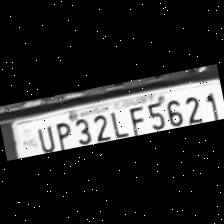1: (200, 88, 222, 120)
2: (180, 91, 204, 124), (89, 109, 112, 142)
3: (69, 113, 92, 146)
5: (142, 96, 166, 132)
6: (162, 95, 184, 128)
F: (124, 101, 147, 135)
L: (106, 105, 128, 138)
P: (50, 117, 72, 149)
U: (33, 120, 56, 152)
